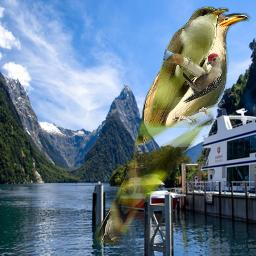Cuckoo: (92, 7, 252, 250), (146, 6, 229, 128)
Woodpecker: (183, 53, 222, 105)
